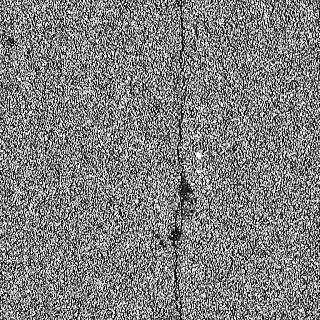crack: (172, 0, 186, 320)
